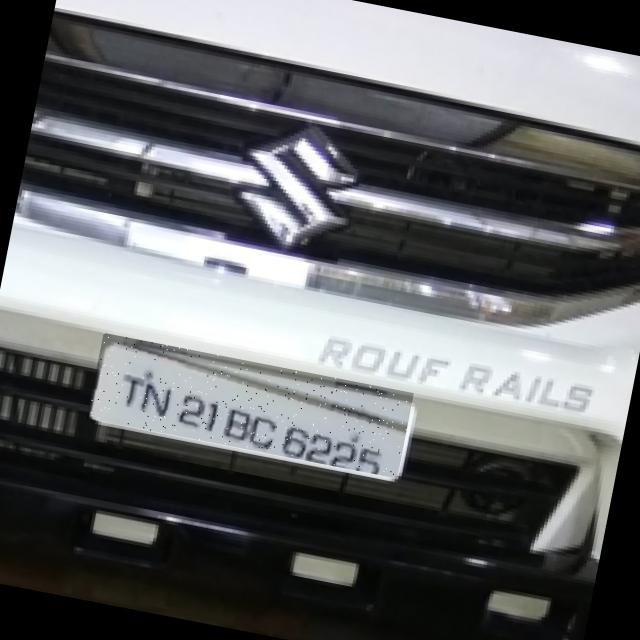Plate: (88, 334, 415, 480)
